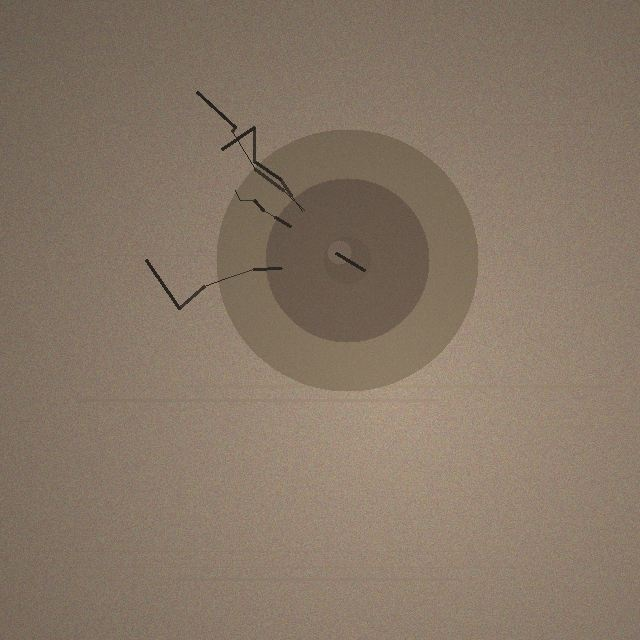crack: (216, 129, 478, 391)
